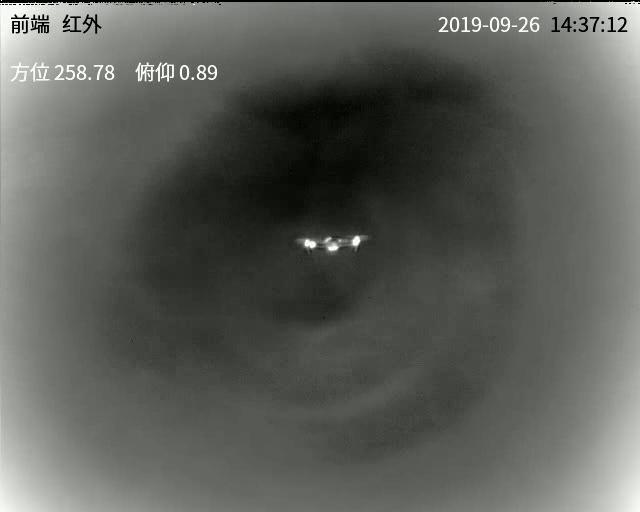DRONE: (303, 231, 362, 256)
